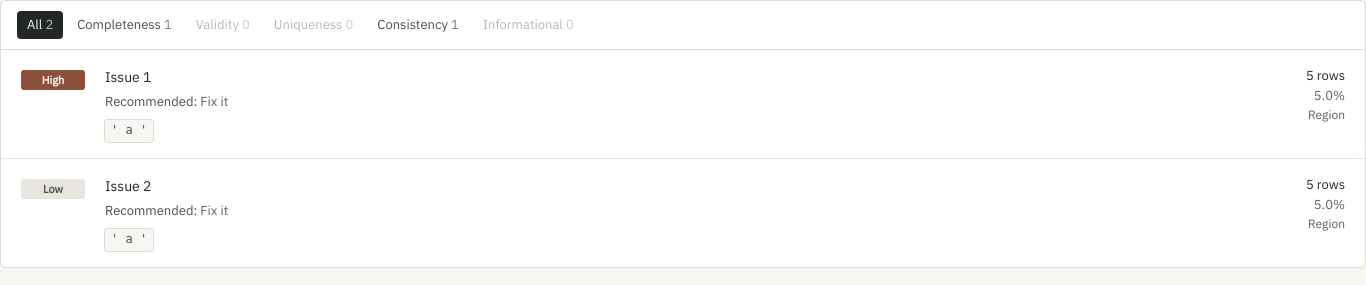
IssueList › filters findings by dimension
This screenshot has width=1366, height=285.
Expected: the text "Issue 1" is shown, x1=105 y1=68 x2=152 y2=86
Click the tab "Consistency 1" at (418, 25), box x1=367 y1=11 x2=469 y2=39
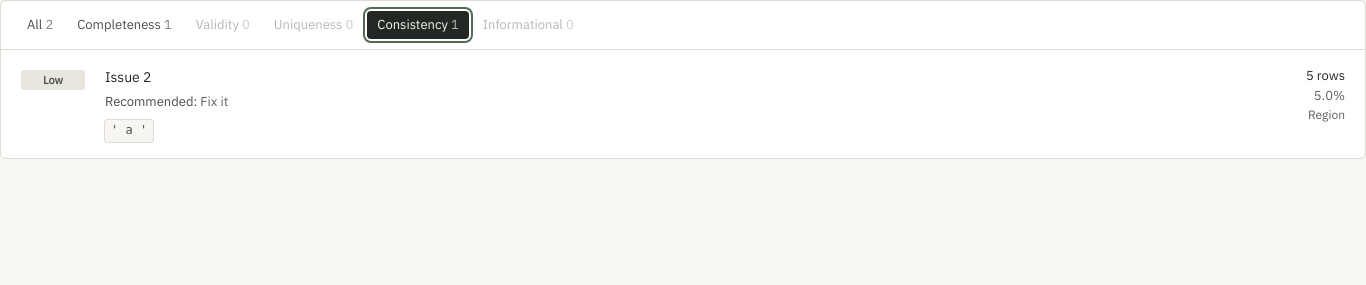
Expected: the text "Issue 2" is shown, x1=105 y1=68 x2=152 y2=86
Result: the text "Issue 1" is gone
